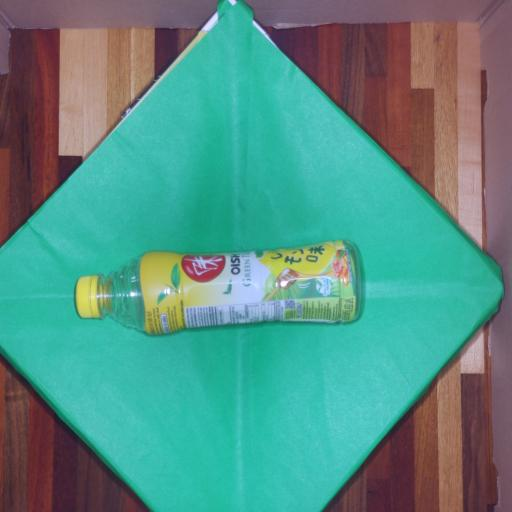bottle: (76, 241, 360, 333)
